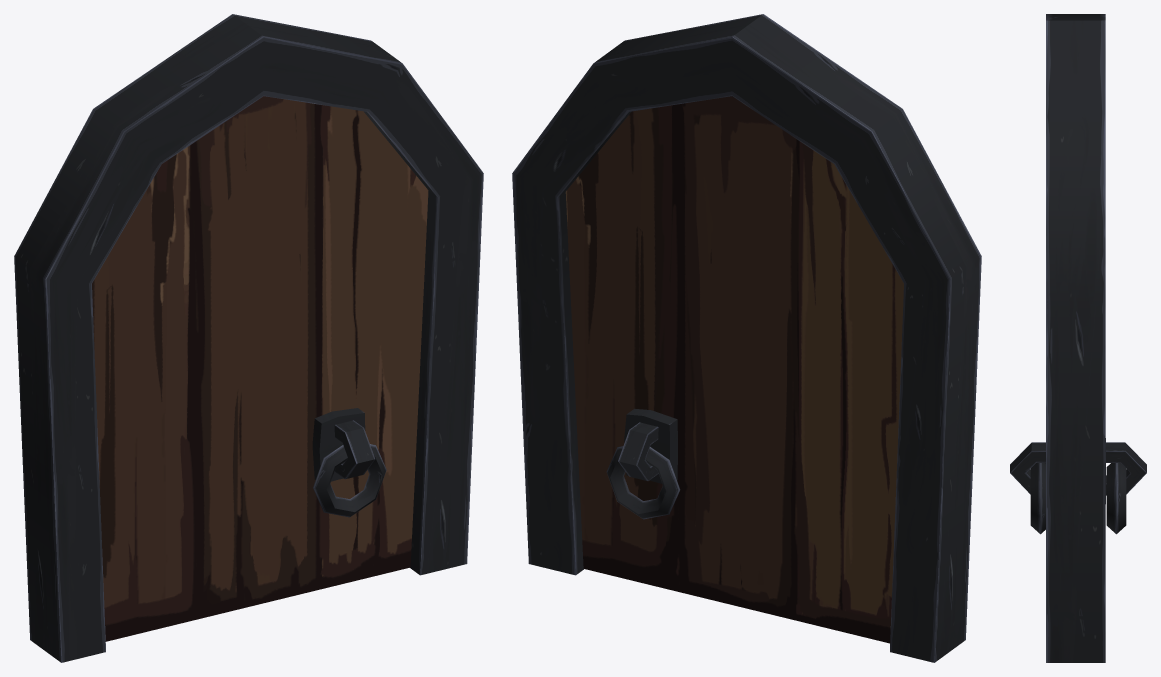
The model's file is MOD_Gateway_Door_01_med_02_door.fbx.
3 renders of one model, left to right at view 1: azimuth 30°, elevation 25°; view 2: azimuth 150°, elevation 25°; view 3: azimuth 270°, elevation 25°, orthographic. The views are drawn at different scales.
Parts seen in each view (by area): view 1: MOD_Gateway_Door_01_med_02_door; view 2: MOD_Gateway_Door_01_med_02_door; view 3: MOD_Gateway_Door_01_med_02_door.
Part boxes in pixels (bbox=[...]): MOD_Gateway_Door_01_med_02_door: bbox=[14, 14, 483, 662]; MOD_Gateway_Door_01_med_02_door: bbox=[512, 14, 981, 662]; MOD_Gateway_Door_01_med_02_door: bbox=[1010, 14, 1146, 662].
Size of what is drawn, in the model's own units: 269 by 339 by 76.64.
